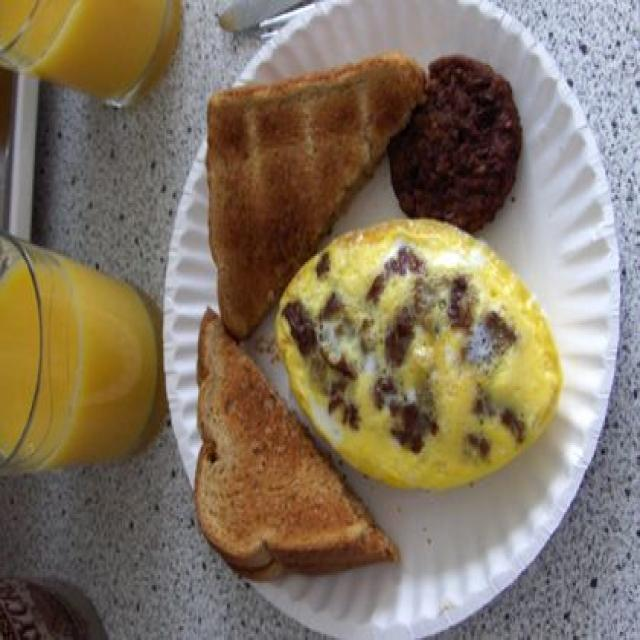鸡蛋料理: (241, 213, 568, 490)
